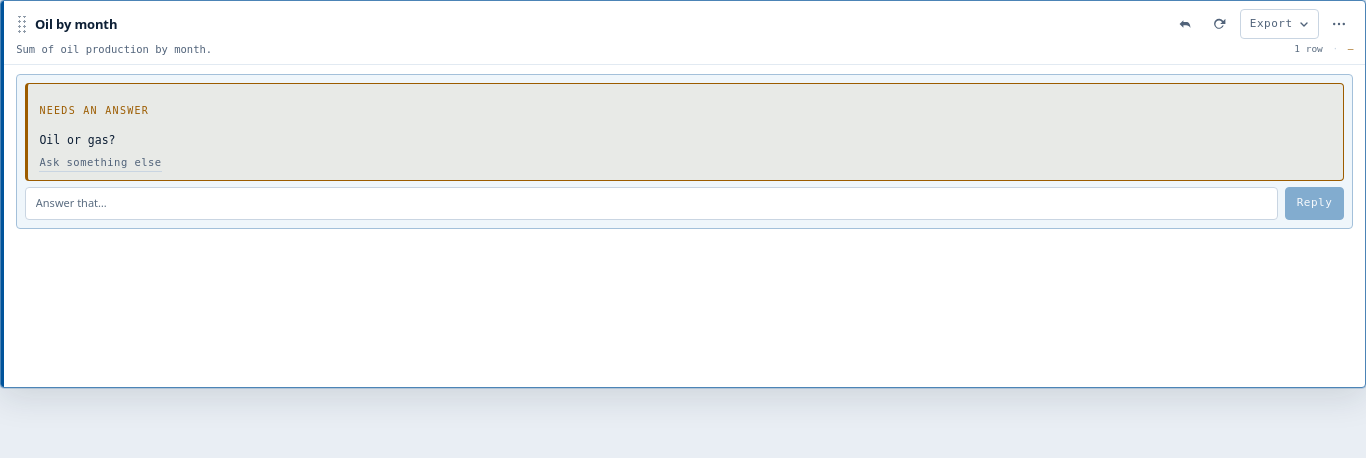
Test: Card exchanges › keeps a saved exchange replyable when undo fails
What coordinates should you click on to do the following:
click the button named "Undo the previous edit"
I would click on:
 (1185, 24)
Its box is left=1171, top=10, right=1199, bottom=38.
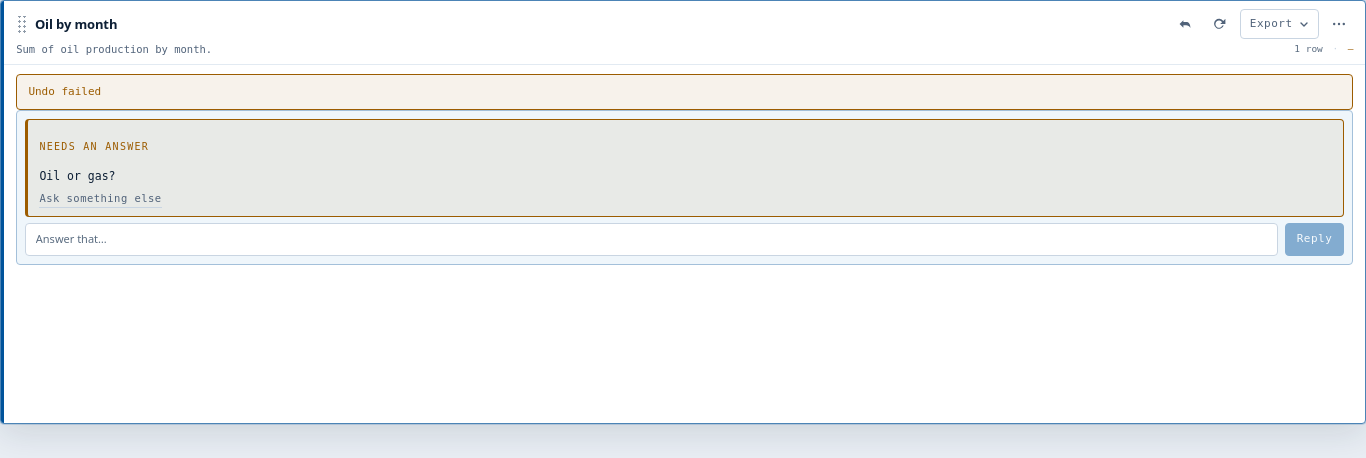
Expected: the text "Oil or gas?" is shown, left=39, top=169, right=116, bottom=183
Result: the text "Undo failed" is shown at left=16, top=74, right=1354, bottom=110
